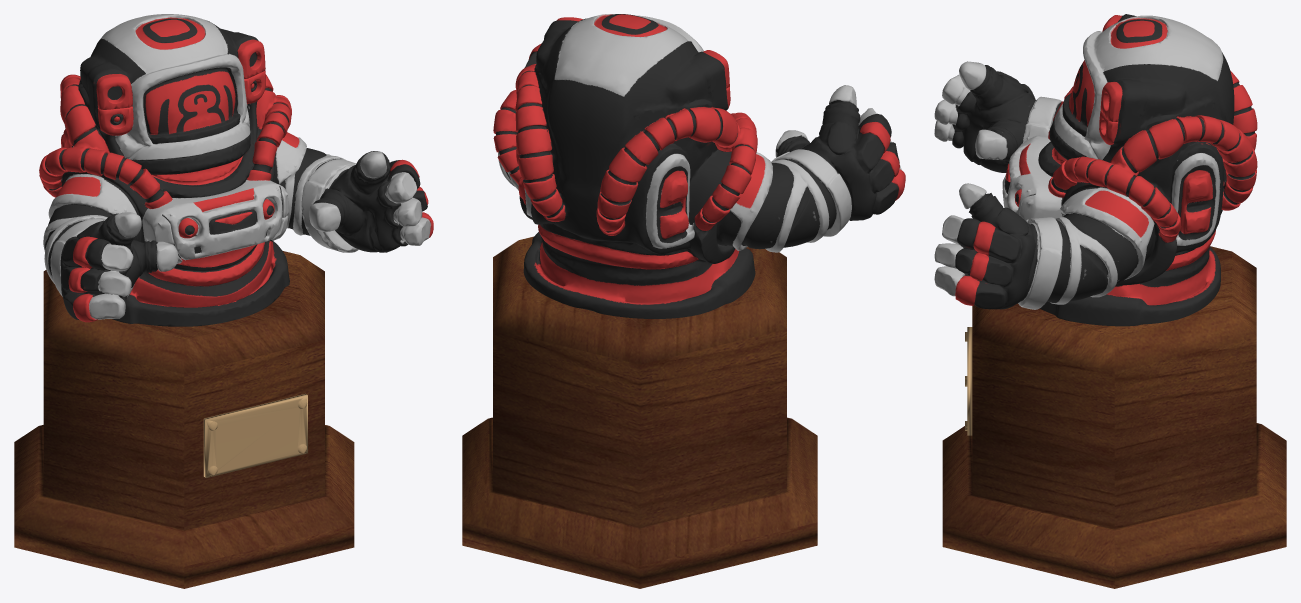
File: hack-trophy-recoloured.glb
3 views of the same model, side by side, from view 1: azimuth 30°, elevation 25°; view 2: azimuth 150°, elevation 25°; view 3: azimuth 270°, elevation 25° (orthographic). The views are drawn at different scales.
Visible parts, largest first — view 1: Mesh (×2), hitem3d; view 2: Mesh, hitem3d; view 3: Mesh (×2), hitem3d.
Boxes of the visible parts, x1,y1,x2,y2 form: Mesh (×2): (14,251,354,588); hitem3d: (39,14,433,326); Mesh: (462,236,817,588); hitem3d: (493,14,905,318); Mesh (×2): (942,246,1286,588); hitem3d: (934,14,1257,326).
Size of the model in its own units: 0.0839 by 0.1059 by 0.0709.
Materials: 3 (1 with a texture image).
